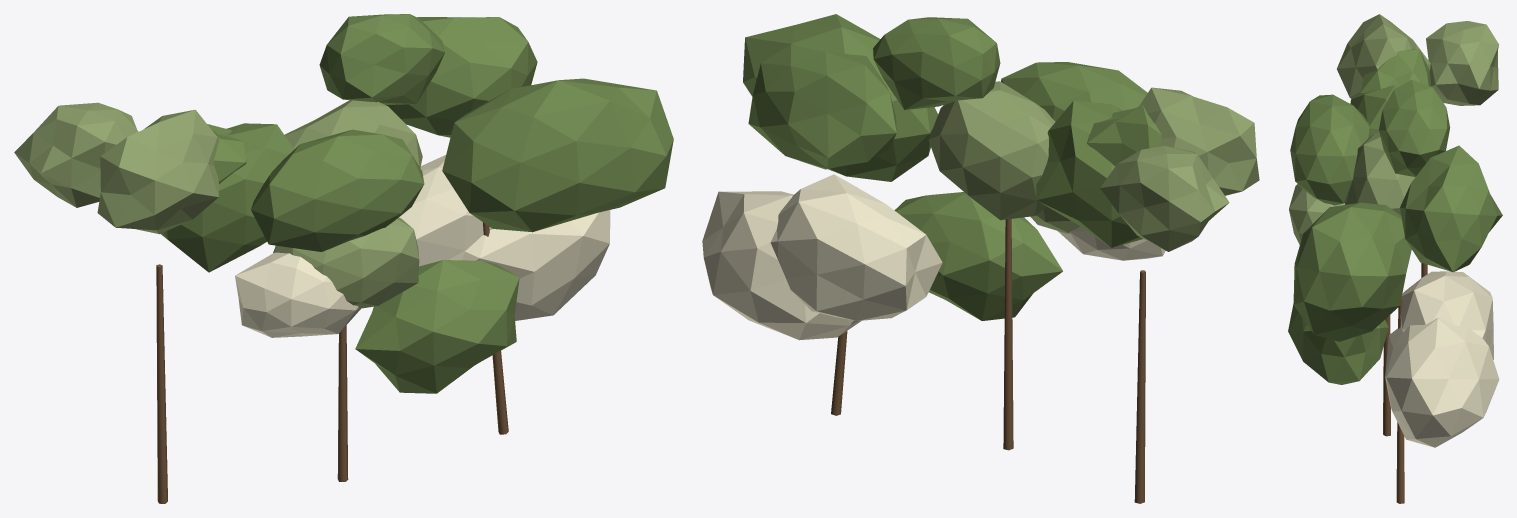
File: fagyal-soveny-2m.glb
3 renders of one model, left to right at view 1: azimuth 30°, elevation 25°; view 2: azimuth 150°, elevation 25°; view 3: azimuth 270°, elevation 25°, orthographic. The views are drawn at different scales.
Parts seen in each view (by area): view 1: korona-13, korona-10, korona-6, korona-2, korona-12, korona-9, korona-14, korona-4, korona-1, korona-5, korona-7, korona-11 (+5 smaller); view 2: korona-11, korona-12, korona-8, korona-10, korona-14, korona-9, korona-1, korona-4, korona-13, korona-2, korona-6, korona-3 (+5 smaller); view 3: korona-13, korona-14, korona-12, korona-6, korona-1, korona-9, korona-11, korona-10, korona-2, korona-8, korona-3, korona-7 (+3 smaller).
Part boxes in pixels (left/top/right/bottom): korona-13: left=442, top=78, right=673, bottom=232; korona-10: left=355, top=260, right=519, bottom=393; korona-6: left=251, top=129, right=424, bottom=251; korona-2: left=97, top=109, right=218, bottom=234; korona-12: left=386, top=17, right=537, bottom=137; korona-9: left=319, top=14, right=444, bottom=104; korona-14: left=462, top=210, right=610, bottom=320; korona-4: left=160, top=123, right=293, bottom=272; korona-1: left=14, top=102, right=138, bottom=207; korona-5: left=235, top=252, right=360, bottom=337; korona-7: left=273, top=217, right=419, bottom=308; korona-11: left=399, top=155, right=492, bottom=266; korona-11: left=770, top=174, right=942, bottom=320; korona-12: left=748, top=44, right=896, bottom=169; korona-8: left=928, top=81, right=1055, bottom=220; korona-10: left=894, top=192, right=1062, bottom=320; korona-14: left=702, top=191, right=861, bottom=340; korona-9: left=873, top=17, right=1000, bottom=109; korona-1: left=1100, top=146, right=1229, bottom=251; korona-4: left=1036, top=100, right=1143, bottom=247; korona-13: left=743, top=14, right=937, bottom=181; korona-2: left=1139, top=87, right=1259, bottom=195; korona-6: left=1001, top=62, right=1147, bottom=121; korona-3: left=1087, top=104, right=1161, bottom=166; korona-13: left=1293, top=202, right=1411, bottom=341; korona-14: left=1385, top=318, right=1499, bottom=447; korona-12: left=1400, top=145, right=1502, bottom=272; korona-6: left=1290, top=94, right=1371, bottom=205; korona-1: left=1426, top=21, right=1498, bottom=105; korona-9: left=1379, top=79, right=1450, bottom=176; korona-11: left=1400, top=271, right=1493, bottom=359; korona-10: left=1288, top=303, right=1388, bottom=384; korona-2: left=1337, top=14, right=1430, bottom=98; korona-8: left=1345, top=133, right=1415, bottom=215; korona-3: left=1360, top=49, right=1431, bottom=94; korona-7: left=1289, top=184, right=1344, bottom=244.
Bounding box in the file's own units: 2.35 × 1.76 × 0.9416.
